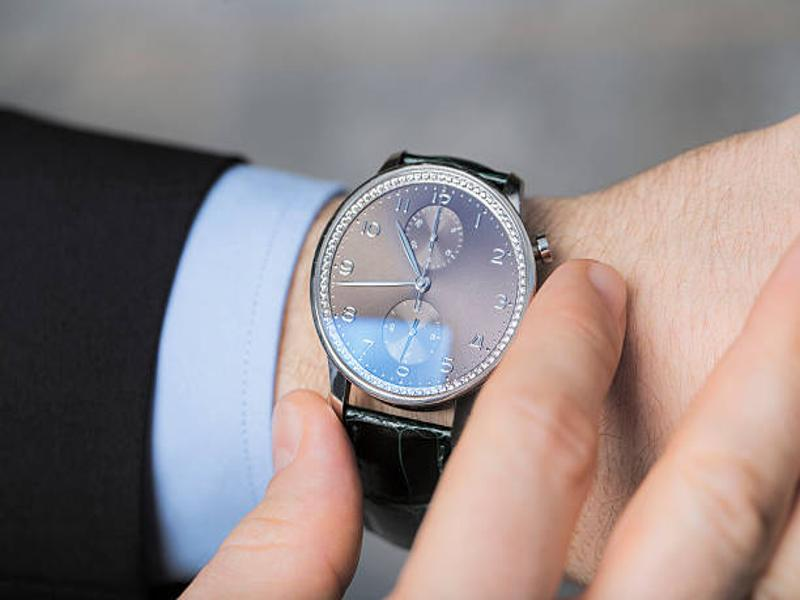watch: (307, 149, 554, 553)
